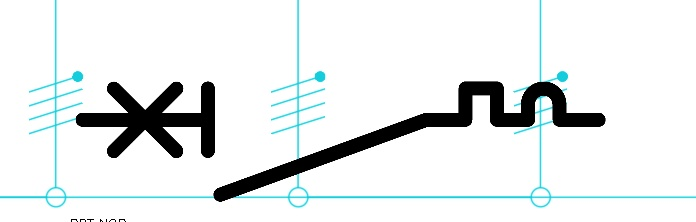interruptor_termomagnetico: (69, 75, 612, 208)
